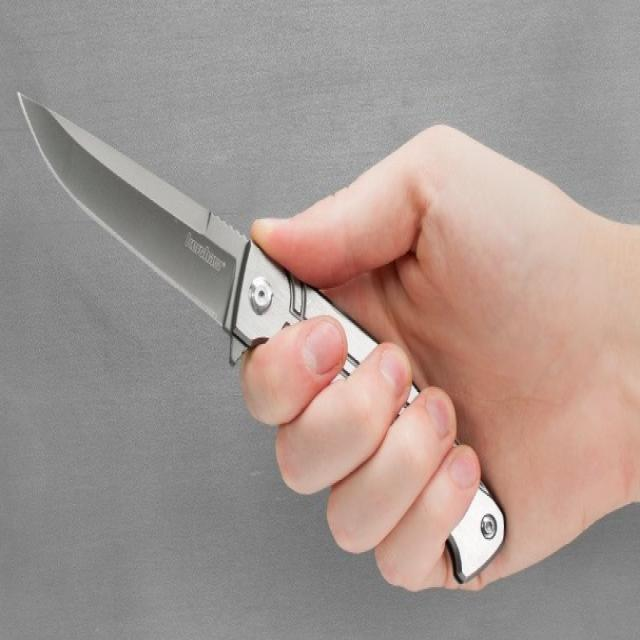knife: (16, 85, 514, 597)
